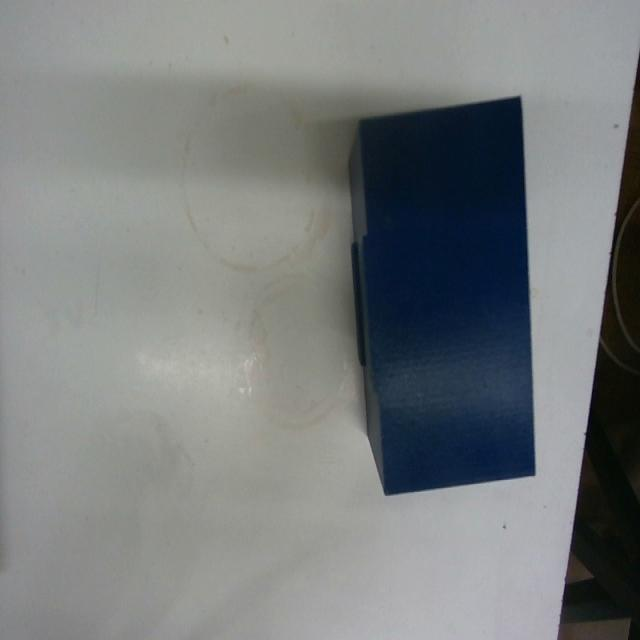Blue Cuboid: (346, 92, 537, 496)
